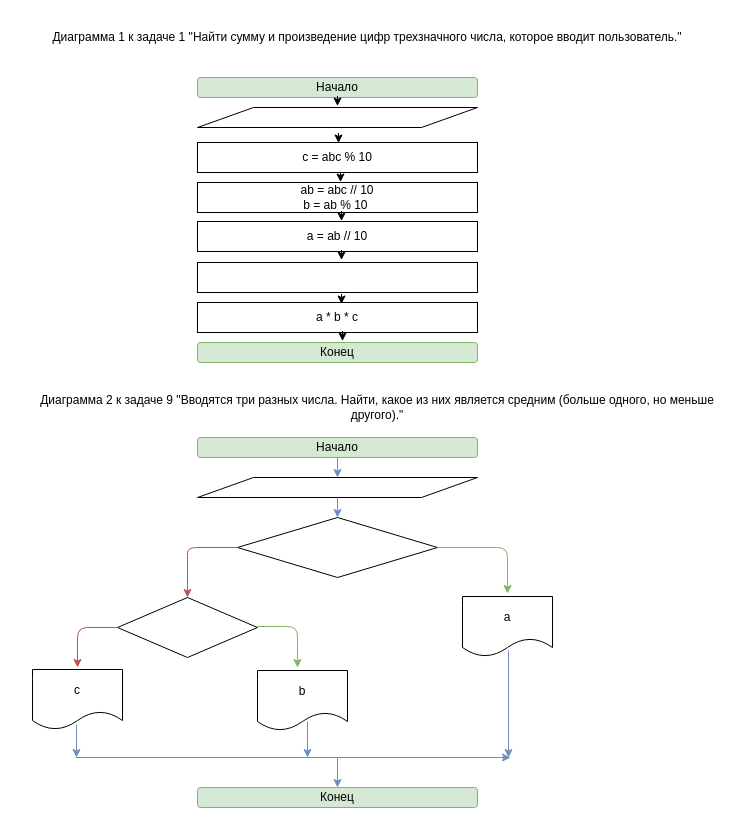
The diagram is 744 pixels wide and 825 high, and some of its shapes have lost their labels. Each missing label, with the centre of its shape:
a + b + c: the point at 337,277
a < b < c или с < b < a: the point at 187,627
a,b,c: the point at 337,487
abc: the point at 337,117
b < a < c или c < a < b: the point at 337,547
